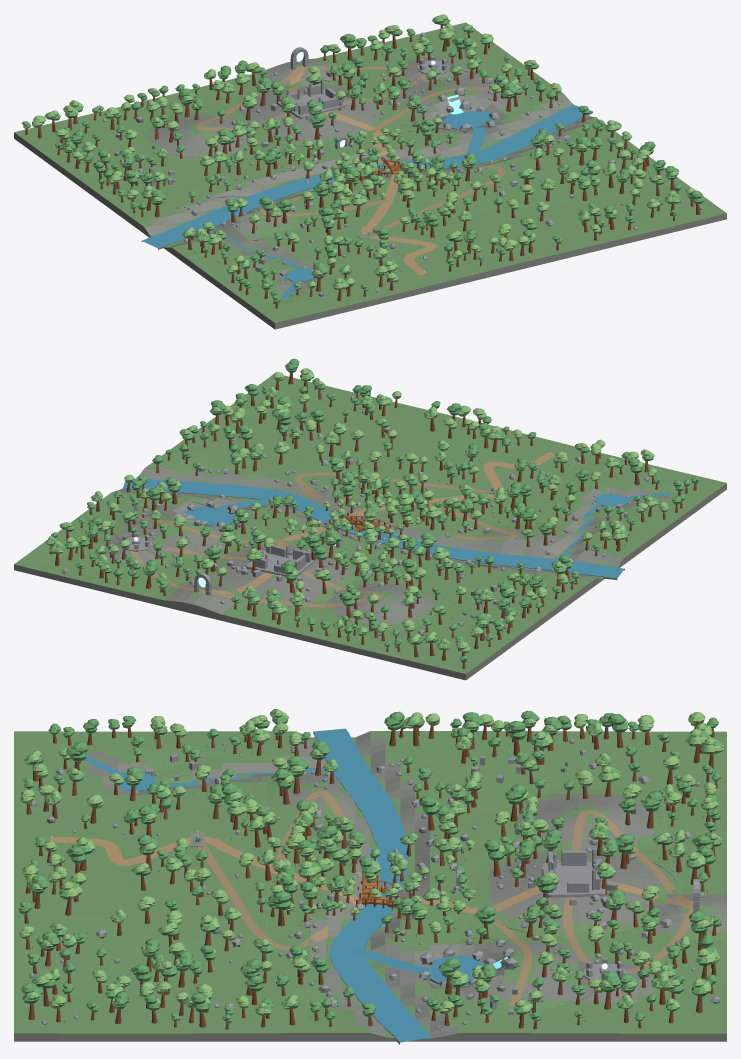
Rendered from bunny-world-map.glb.
3 views of the same model, one above another, from view 1: azimuth 30°, elevation 25°; view 2: azimuth 150°, elevation 25°; view 3: azimuth 270°, elevation 25° (orthographic). The views are drawn at different scales.
Visible parts, largest first — view 1: BW_WF_Terrain, BW_WF_Major_River, BW_WF_MAIN_PATH, BW_WF_Forest_Pond, BW_WF_ELITE_BRANCH; view 2: BW_WF_Terrain, BW_WF_Major_River, BW_WF_MAIN_PATH, BW_WF_ELITE_BRANCH, BW_WF_EASTERN_SIDE_ROUTE, BW_WF_Forest_Pond, BW_WF_Ruins_Platform; view 3: BW_WF_Terrain, BW_WF_Major_River, BW_WF_MAIN_PATH, BW_WF_EASTERN_SIDE_ROUTE, BW_WF_Ruins_Platform, BW_WF_SECRET_BRANCH, BW_WF_ELITE_BRANCH, BW_WF_EVENT_SHRINE_BRANCH, BW_WF_REWARD_BRANCH_02, BW_WF_Forest_Pond, BW_WF_Southern_Creek, BW_WF_Pond_Stream (+1 smaller).
Boxes of the visible parts, x1=… form: BW_WF_Terrain: x1=14, y1=22, x2=726, y2=329; BW_WF_Major_River: x1=141, y1=104, x2=592, y2=249; BW_WF_MAIN_PATH: x1=289, y1=67, x2=436, y2=275; BW_WF_Forest_Pond: x1=442, y1=110, x2=492, y2=130; BW_WF_ELITE_BRANCH: x1=196, y1=67, x2=306, y2=130; BW_WF_Terrain: x1=14, y1=375, x2=726, y2=680; BW_WF_Major_River: x1=122, y1=478, x2=624, y2=579; BW_WF_MAIN_PATH: x1=201, y1=452, x2=554, y2=594; BW_WF_ELITE_BRANCH: x1=201, y1=571, x2=383, y2=607; BW_WF_EASTERN_SIDE_ROUTE: x1=295, y1=472, x2=488, y2=498; BW_WF_Forest_Pond: x1=184, y1=507, x2=234, y2=525; BW_WF_Ruins_Platform: x1=246, y1=550, x2=313, y2=576; BW_WF_Terrain: x1=14, y1=731, x2=726, y2=1041; BW_WF_Major_River: x1=313, y1=728, x2=432, y2=1044; BW_WF_MAIN_PATH: x1=49, y1=836, x2=693, y2=913; BW_WF_EASTERN_SIDE_ROUTE: x1=197, y1=843, x2=329, y2=950; BW_WF_Ruins_Platform: x1=542, y1=861, x2=605, y2=897; BW_WF_SECRET_BRANCH: x1=473, y1=769, x2=501, y2=910; BW_WF_ELITE_BRANCH: x1=571, y1=809, x2=693, y2=909; BW_WF_EVENT_SHRINE_BRANCH: x1=563, y1=897, x2=693, y2=973; BW_WF_REWARD_BRANCH_02: x1=492, y1=918, x2=532, y2=1006; BW_WF_Forest_Pond: x1=429, y1=956, x2=483, y2=987; BW_WF_Southern_Creek: x1=84, y1=755, x2=350, y2=786; BW_WF_Pond_Stream: x1=348, y1=947, x2=430, y2=972.
Bounding box in the file's own units: 146 × 11.38 × 140.
